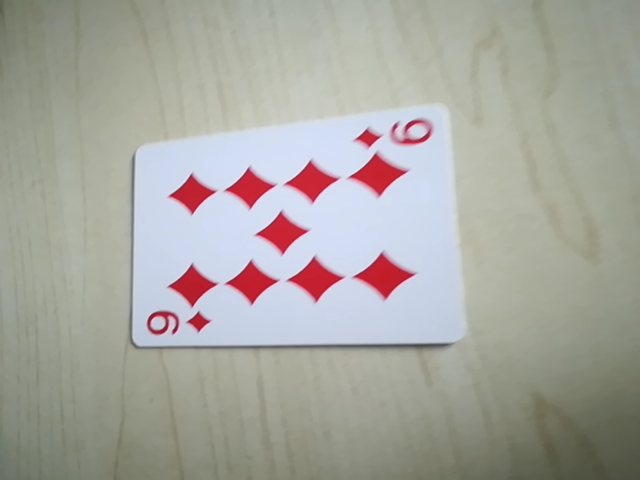fk 9: (353, 109, 439, 158), (143, 306, 214, 345)
